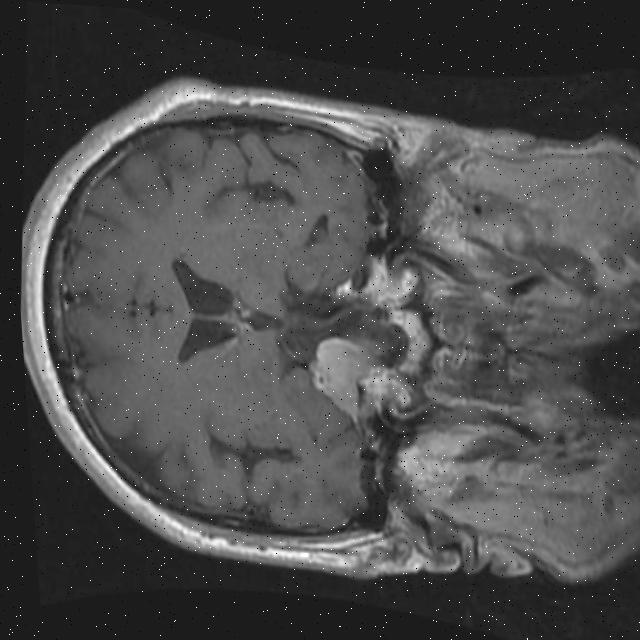Meningioma: (301, 329, 392, 425)
